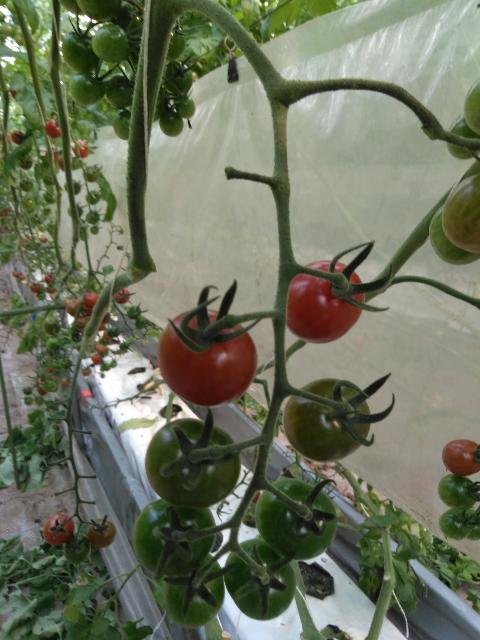l_fully_ripened: (157, 307, 258, 408), (286, 259, 365, 345), (442, 438, 479, 477), (44, 513, 74, 546)
l_green: (144, 417, 242, 508), (283, 376, 370, 464), (255, 478, 337, 560), (133, 498, 216, 578), (223, 539, 296, 621), (163, 553, 224, 629), (428, 203, 479, 264), (443, 172, 480, 254), (62, 31, 101, 73), (447, 113, 480, 160), (92, 24, 131, 63), (438, 473, 479, 510), (70, 71, 106, 106), (439, 508, 474, 541), (105, 73, 135, 109), (161, 61, 193, 94), (75, 0, 121, 22), (63, 532, 93, 565), (464, 75, 480, 136), (166, 24, 187, 62), (159, 110, 183, 137), (112, 109, 132, 140), (462, 508, 479, 541), (175, 93, 195, 119)
l_half_ripened: (87, 518, 117, 549)
